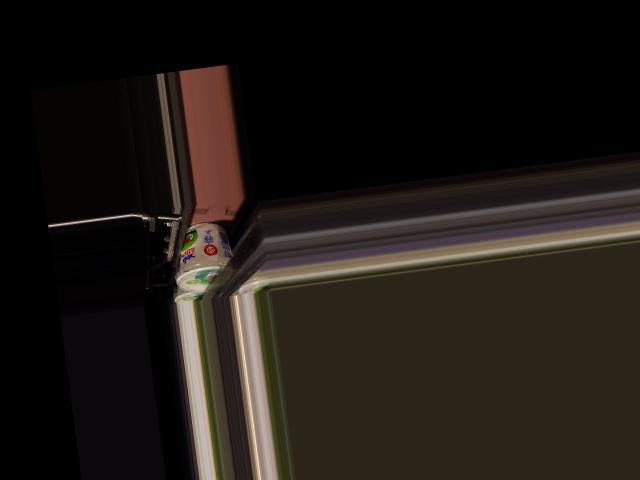cotage: (173, 221, 238, 293)
